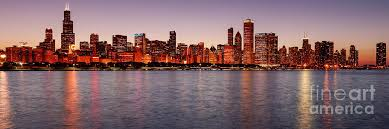willis: (59, 1, 76, 54)
